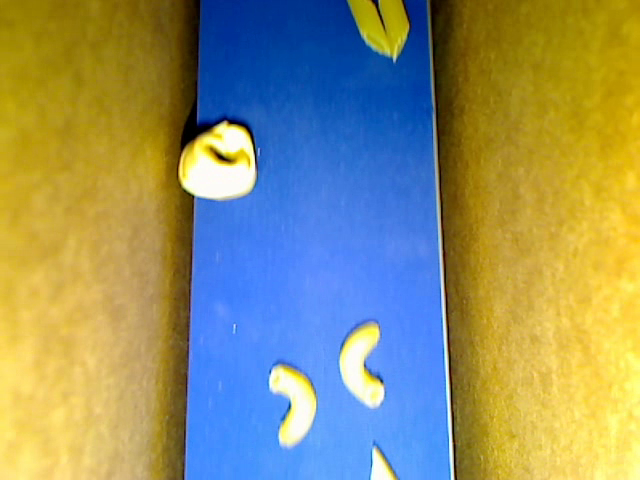elbow: (268, 362, 318, 446), (339, 321, 385, 409)
penne: (347, 1, 391, 57), (377, 1, 409, 63)
tortellini: (177, 121, 257, 202)
